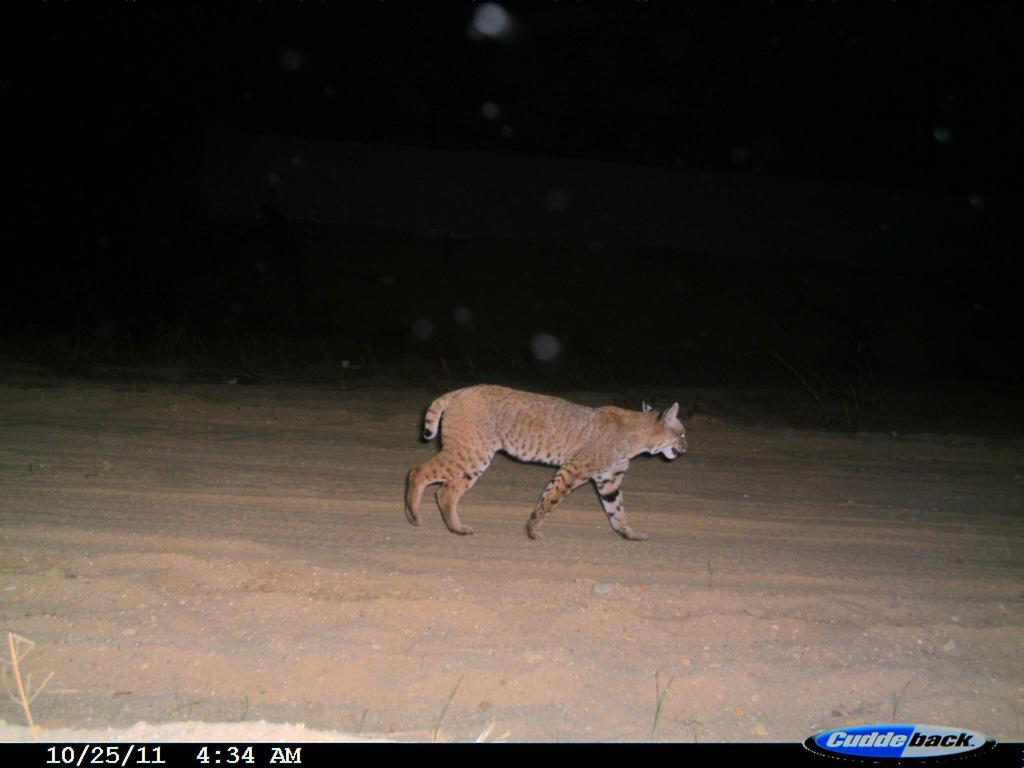bobcat: (401, 378, 697, 547)
